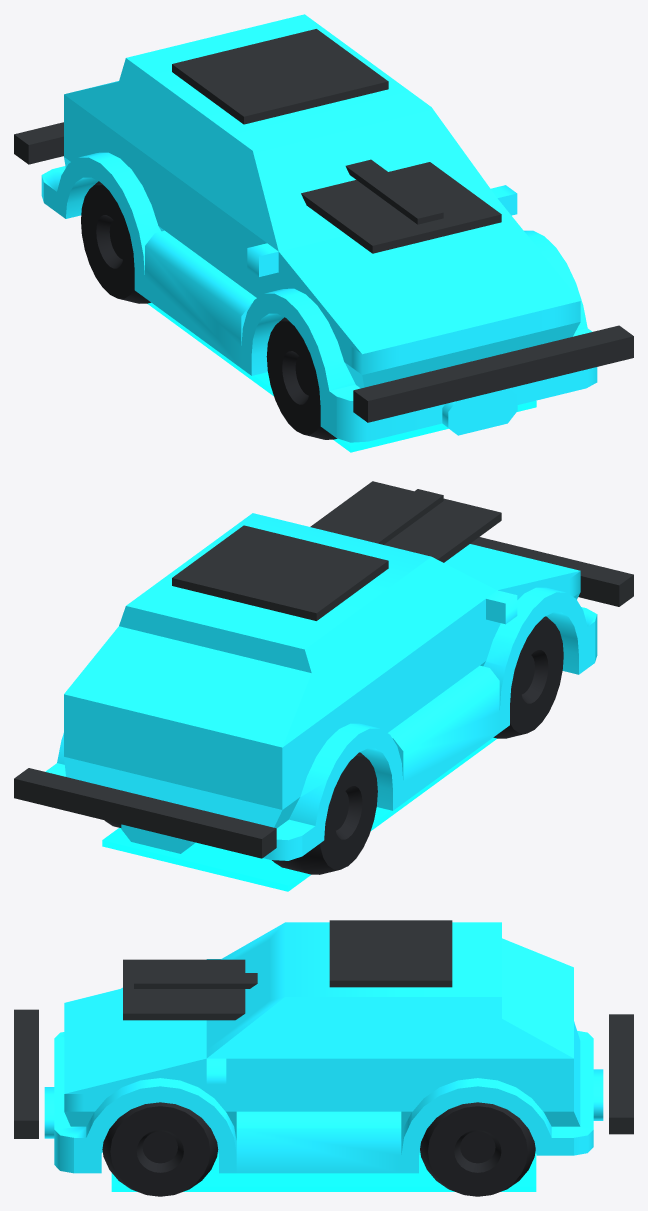
Rendered from derby-cyber.glb.
3 renders of one model, top to bottom at view 1: azimuth 30°, elevation 25°; view 2: azimuth 150°, elevation 25°; view 3: azimuth 270°, elevation 25°, orthographic. The views are drawn at different scales.
Parts seen in each view (by area): view 1: body, roof armor plate, front crash bar, hood armor plate, wheel-front-right, wheel-back-right, derby hood stripe, cyan belly glow, rear crash bar; view 2: body, roof armor plate, rear crash bar, hood armor plate, wheel-back-right, cyan belly glow, wheel-front-right, front crash bar, derby hood stripe; view 3: body, roof armor plate, wheel-front-left, wheel-back-left, hood armor plate, cyan belly glow, front crash bar, rear crash bar, derby hood stripe.
Boxes of the visible parts, left/top/right/bottom form: body: left=41, top=14, right=597, bottom=442; roof armor plate: left=172, top=29, right=388, bottom=124; front crash bar: left=353, top=325, right=633, bottom=422; hood armor plate: left=301, top=162, right=501, bottom=253; wheel-front-right: left=266, top=317, right=337, bottom=439; wheel-back-right: left=81, top=181, right=150, bottom=303; derby hood stripe: left=345, top=159, right=443, bottom=224; cyan belly glow: left=147, top=302, right=536, bottom=452; rear crash bar: left=14, top=122, right=63, bottom=164; body: left=45, top=513, right=597, bottom=860; roof armor plate: left=172, top=525, right=388, bottom=620; rear crash bar: left=14, top=768, right=276, bottom=858; hood armor plate: left=310, top=481, right=501, bottom=562; wheel-back-right: left=272, top=752, right=377, bottom=874; cyan belly glow: left=102, top=737, right=496, bottom=891; wheel-front-right: left=493, top=616, right=563, bottom=738; front crash bar: left=470, top=537, right=633, bottom=606; derby hood stripe: left=352, top=489, right=443, bottom=544; body: left=44, top=922, right=603, bottom=1173; roof armor plate: left=329, top=920, right=452, bottom=987; wheel-front-left: left=102, top=1102, right=218, bottom=1196; wheel-back-left: left=420, top=1102, right=535, bottom=1196; hood armor plate: left=123, top=959, right=245, bottom=1020; cyan belly glow: left=111, top=1152, right=536, bottom=1191; front crash bar: left=14, top=1009, right=38, bottom=1138; rear crash bar: left=609, top=1014, right=633, bottom=1134; derby hood stripe: left=134, top=973, right=257, bottom=988.
Bounding box in the file's own units: 1.34 × 1.15 × 3.16.
